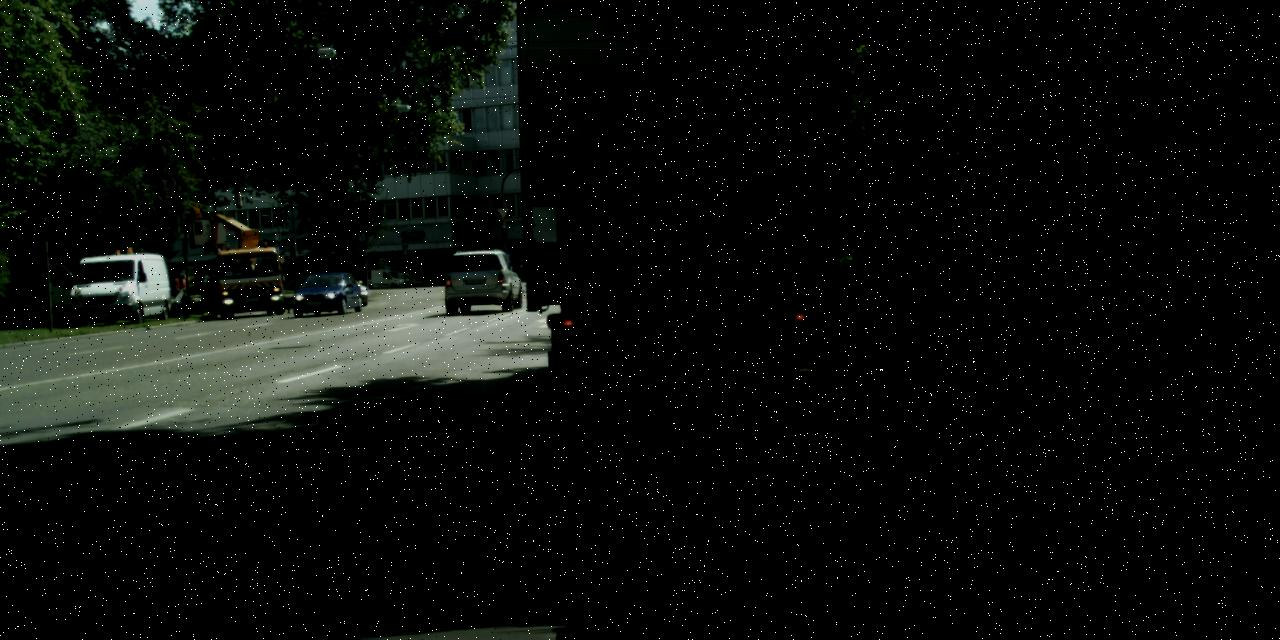ped: (172, 273, 190, 315)
